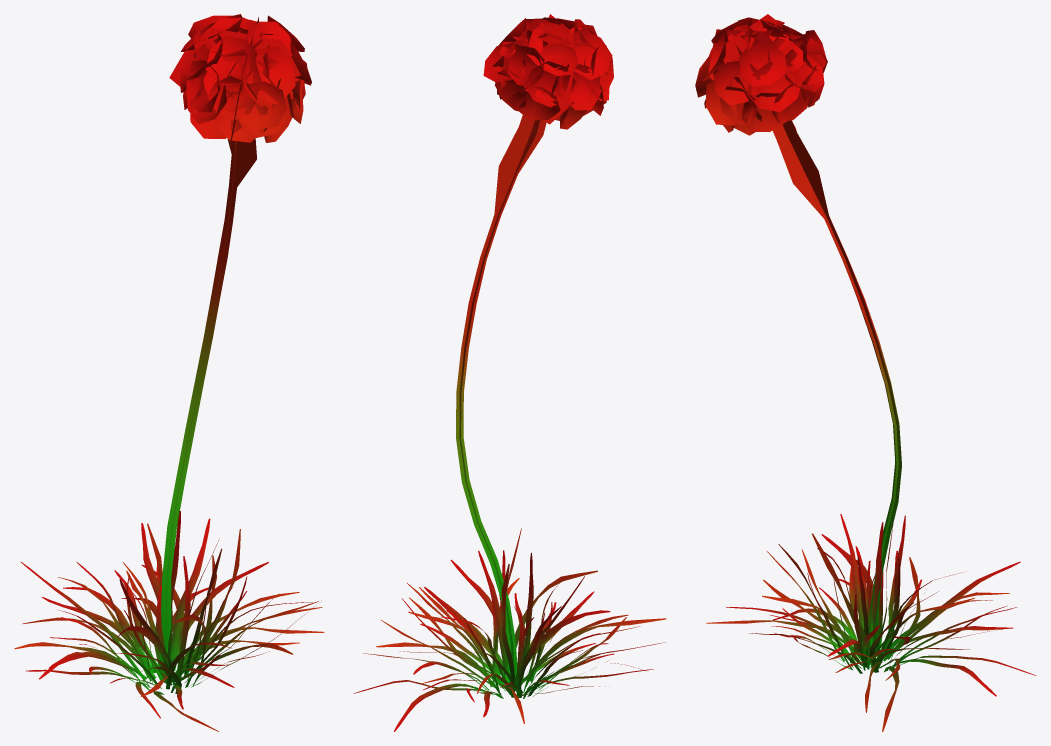
Rendered from Var10_LOD0.fbx.
The picture shows the model from 3 angles, left to right: view 1: azimuth 30°, elevation 25°; view 2: azimuth 150°, elevation 25°; view 3: azimuth 270°, elevation 25°; orthographic projection. The views are drawn at different scales.
Visible parts, largest first — view 1: _ndyj_Var10_LOD0; view 2: _ndyj_Var10_LOD0; view 3: _ndyj_Var10_LOD0.
Boxes of the visible parts, left/top/right/bottom form: _ndyj_Var10_LOD0: left=14, top=14, right=324, bottom=731; _ndyj_Var10_LOD0: left=354, top=14, right=666, bottom=731; _ndyj_Var10_LOD0: left=695, top=14, right=1036, bottom=731.
Bounding box in the file's own units: 8.01 × 17.16 × 8.18.
